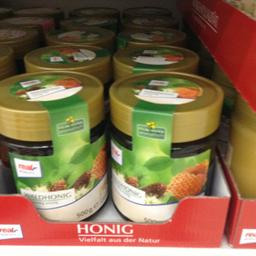honey: (108, 68, 226, 228), (1, 70, 110, 220)
